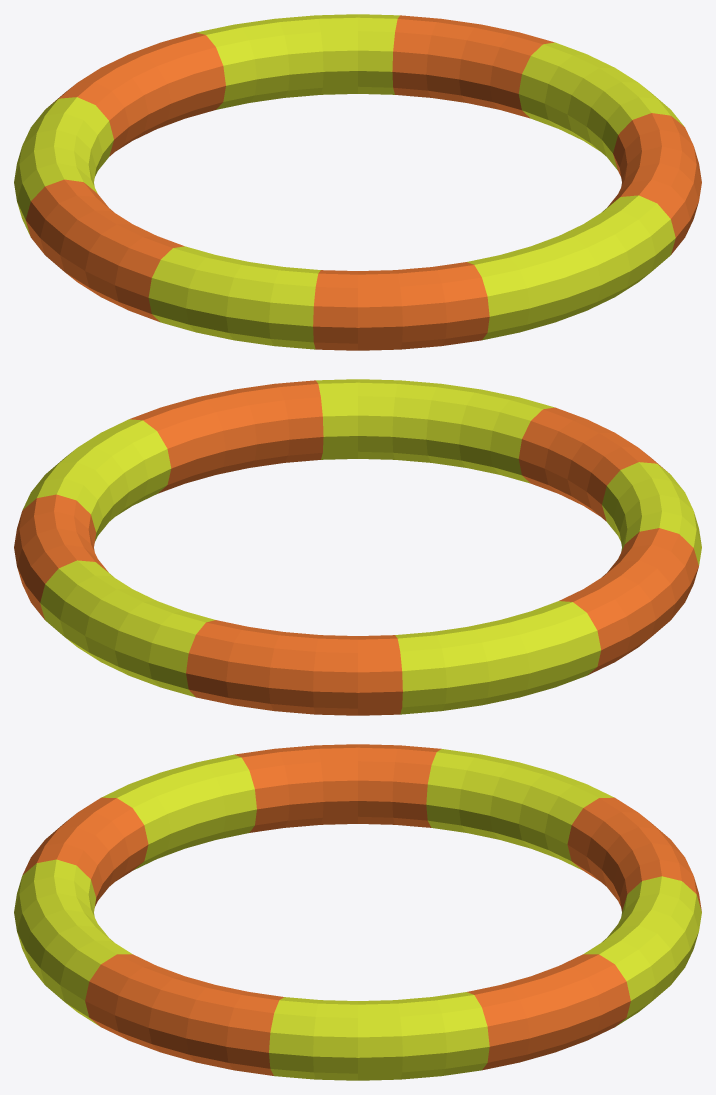
The model's file is Ring1.fbx.
The picture shows the model from 3 angles, top to bottom: view 1: azimuth 30°, elevation 25°; view 2: azimuth 150°, elevation 25°; view 3: azimuth 270°, elevation 25°; orthographic projection.
Visible parts, largest first — view 1: トーラス.002; view 2: トーラス.002; view 3: トーラス.002.
Boxes of the visible parts, x1,y1,x2,y2 form: トーラス.002: [14, 14, 701, 350]; トーラス.002: [14, 379, 701, 715]; トーラス.002: [14, 744, 701, 1080].
Size of the model in its own units: 258 by 30 by 258.
